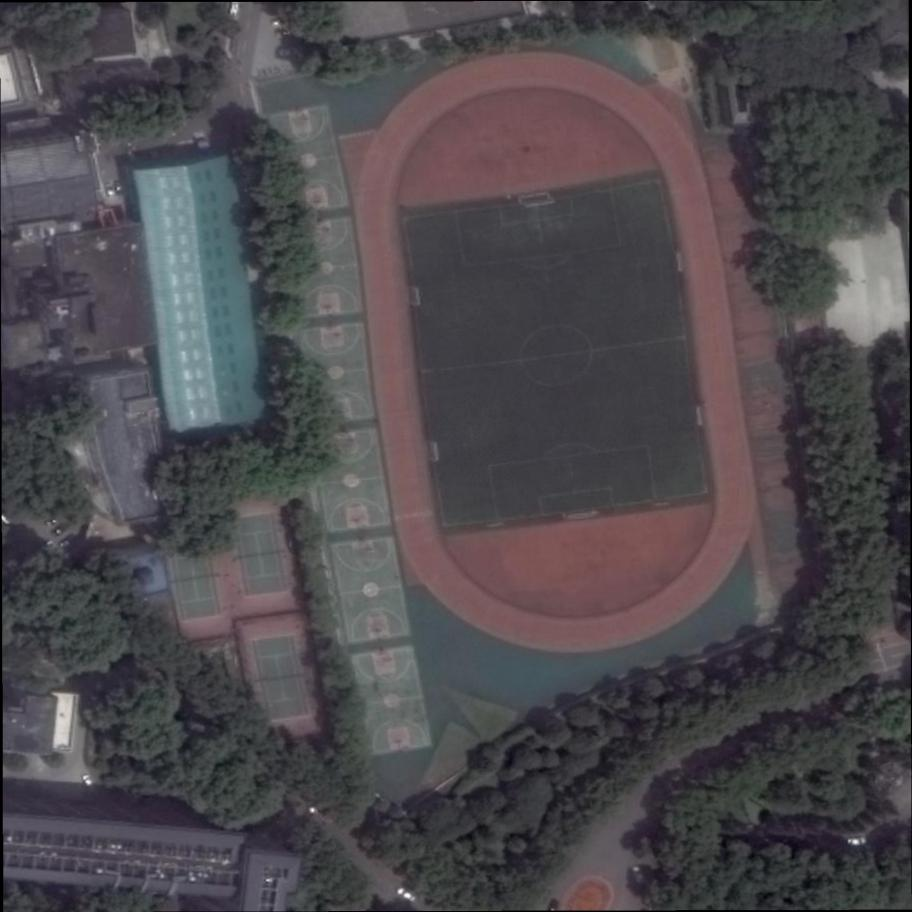small-vehicle: (395, 887, 417, 904), (81, 772, 94, 790), (847, 836, 866, 848)
